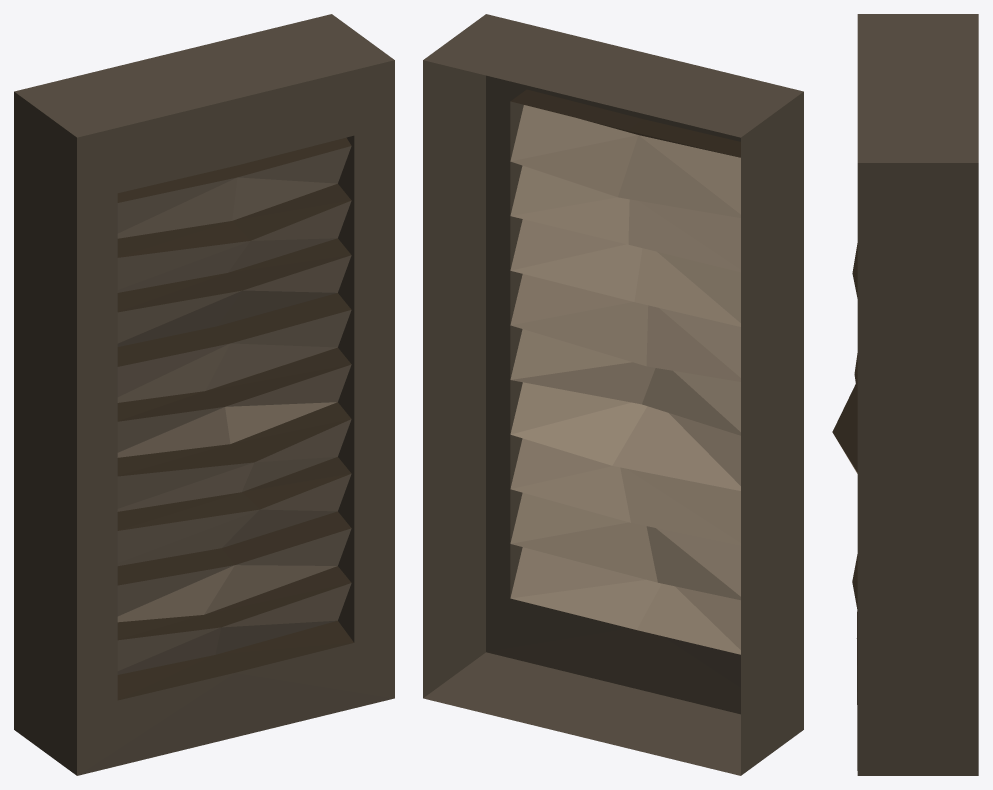
Rendered from SM_Prop_Shanty_BuildingAttachment_02.glb.
3 views of the same model, side by side, from view 1: azimuth 30°, elevation 25°; view 2: azimuth 150°, elevation 25°; view 3: azimuth 270°, elevation 25° (orthographic). The views are drawn at different scales.
Visible parts, largest first — view 1: SM_Prop_Shanty_BuildingAttachment_02_part00; view 2: SM_Prop_Shanty_BuildingAttachment_02_part00; view 3: SM_Prop_Shanty_BuildingAttachment_02_part00.
Boxes of the visible parts, x1,y1,x2,y2 form: SM_Prop_Shanty_BuildingAttachment_02_part00: (14, 14, 394, 775); SM_Prop_Shanty_BuildingAttachment_02_part00: (423, 14, 803, 775); SM_Prop_Shanty_BuildingAttachment_02_part00: (832, 14, 978, 775).
Size of the model in its own units: 0.5833 by 1.12 by 0.2422.
Materials: 1 (1 with a texture image).
